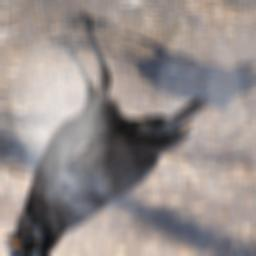Crow: (4, 11, 207, 256)
